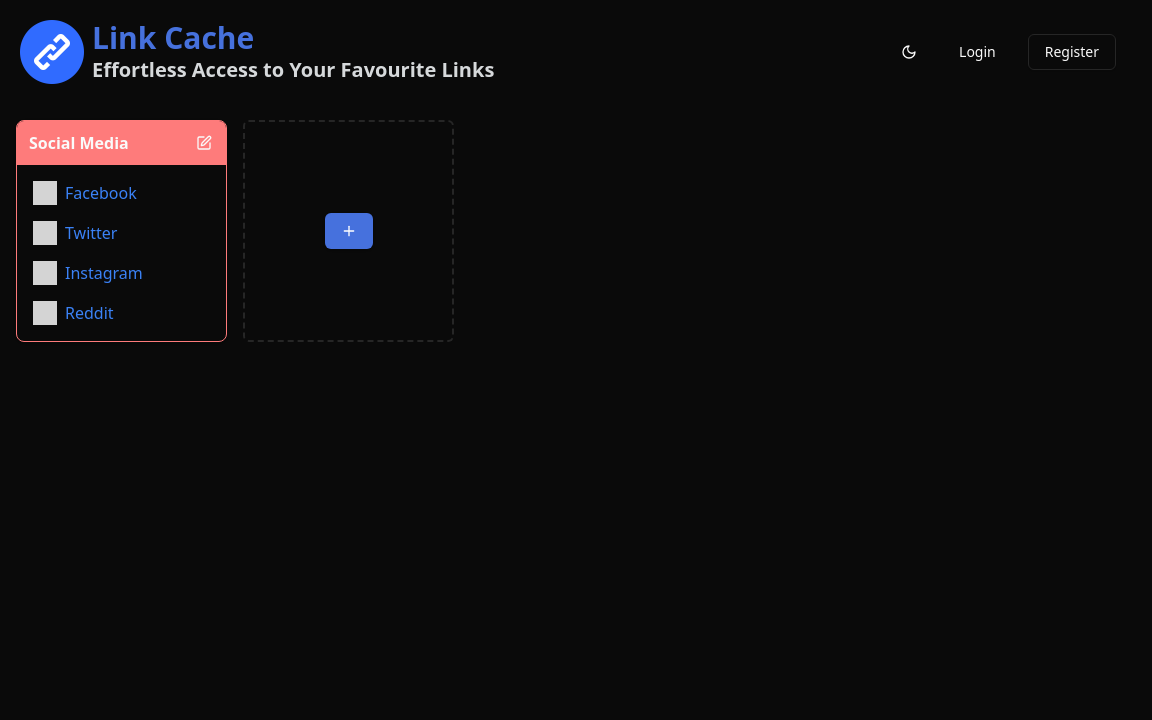
Scenario: App Component › renders LinkGroupModal for existing group
The image size is (1152, 720).
Click the button with test id "edit-link-group-btn" at (204, 143), box [186,125,222,161]
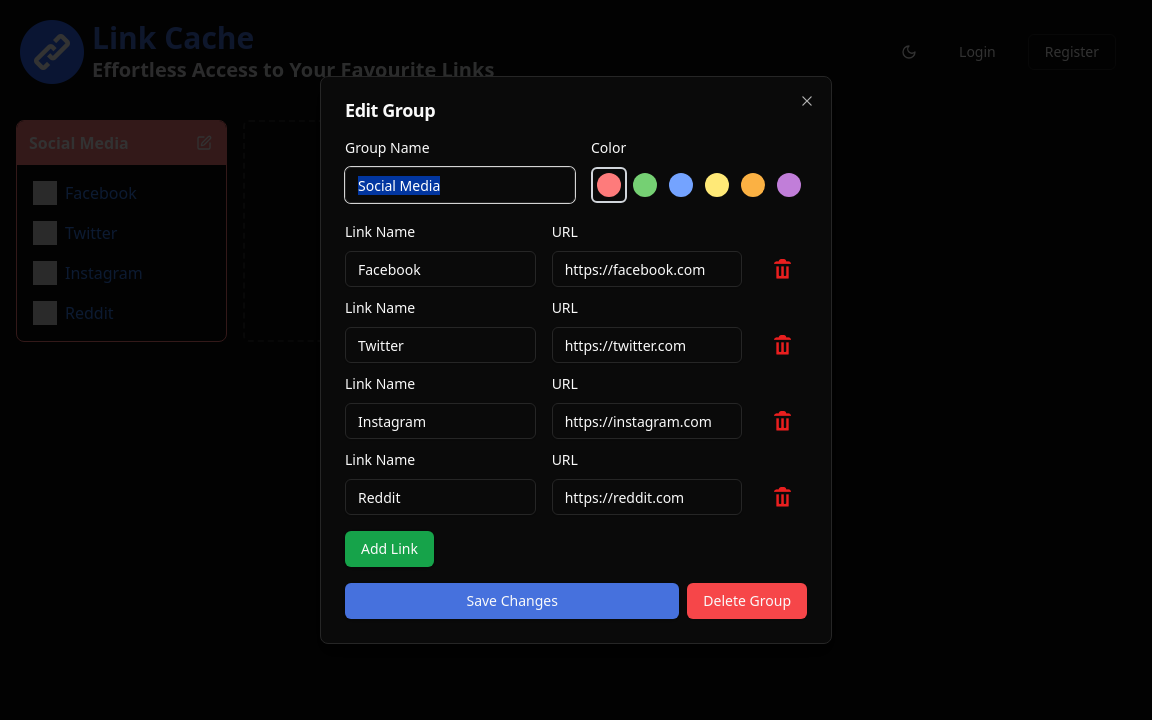
Result: the number of headings "Edit Group" is 2
Result: the text "Group Name" is shown at [345,138,430,157]
Result: the text "Color" is shown at [591,138,626,157]
